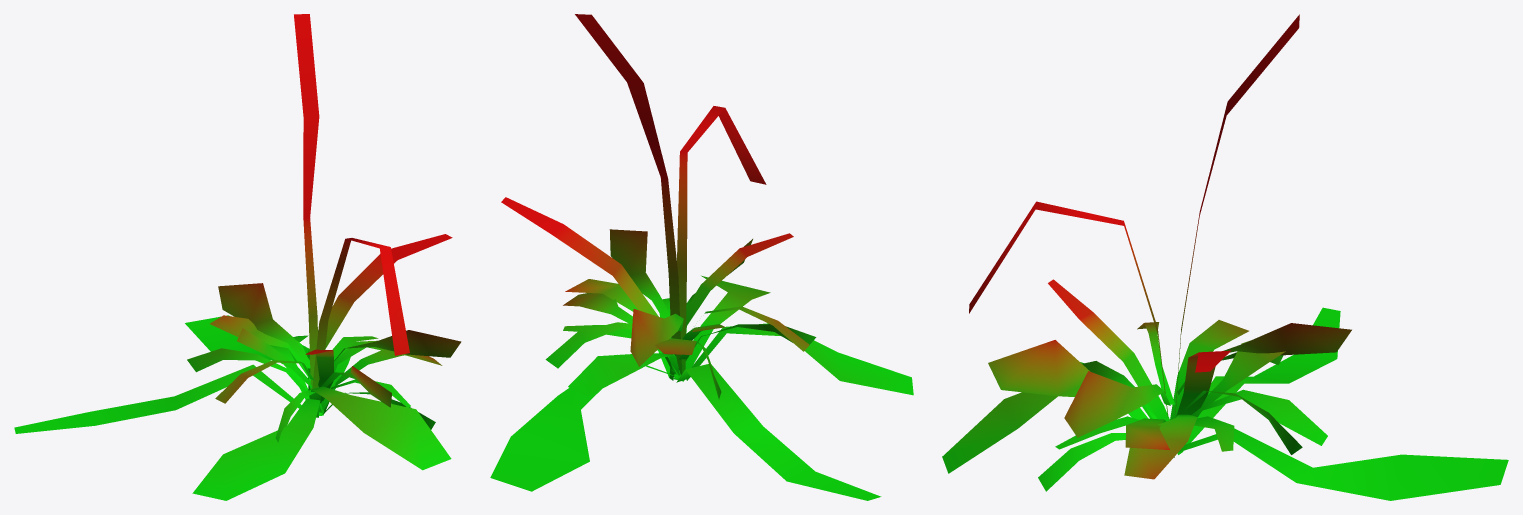
File: Ribwort Plantain_LOD2_Var7_tfbnacvr.fbx
The picture shows the model from 3 angles, left to right: view 1: azimuth 30°, elevation 25°; view 2: azimuth 150°, elevation 25°; view 3: azimuth 270°, elevation 25°; orthographic projection. The views are drawn at different scales.
Visible parts, largest first — view 1: _5428_Var7_LOD2; view 2: _5428_Var7_LOD2; view 3: _5428_Var7_LOD2.
Part boxes in pixels (x1,y1,x2,y2): _5428_Var7_LOD2: (14,14,461,500); _5428_Var7_LOD2: (490,14,913,500); _5428_Var7_LOD2: (942,14,1508,500).
Bounding box in the file's own units: 34.34 × 30.75 × 34.
